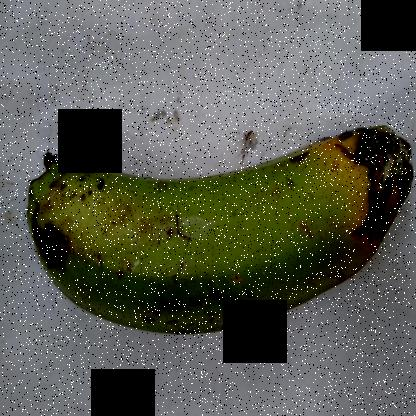unripe: (22, 89, 326, 354)
